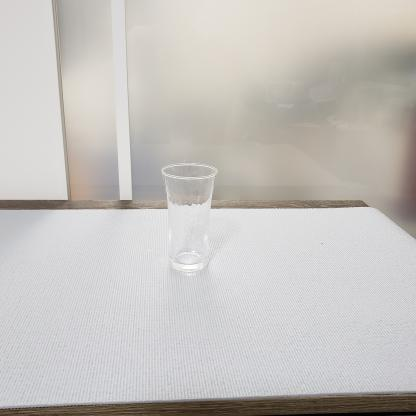glass: (158, 158, 232, 278)
